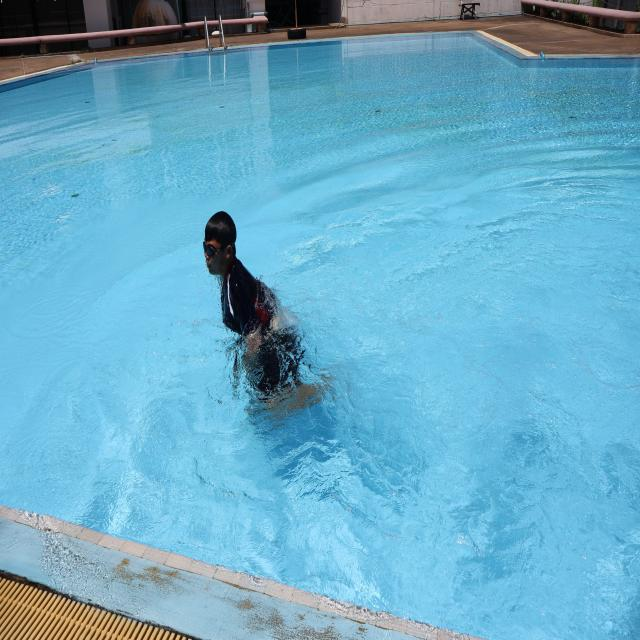Swimming: (200, 208, 326, 411)
